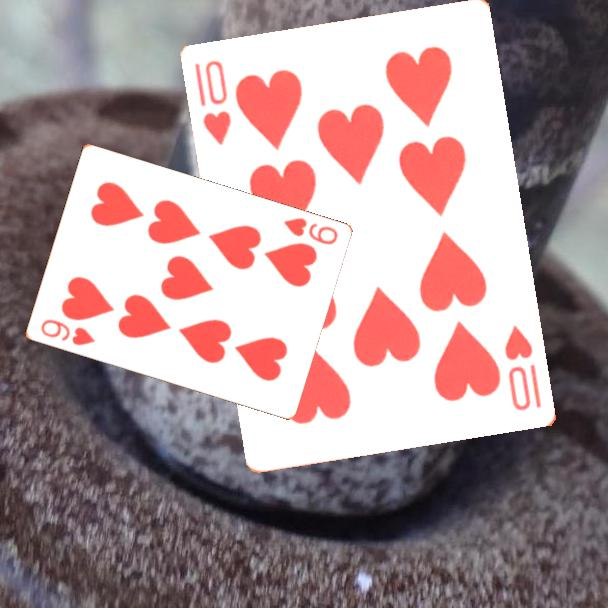h09: (279, 214, 340, 248), (37, 316, 98, 349)
h10: (501, 322, 545, 414), (192, 57, 235, 149)
